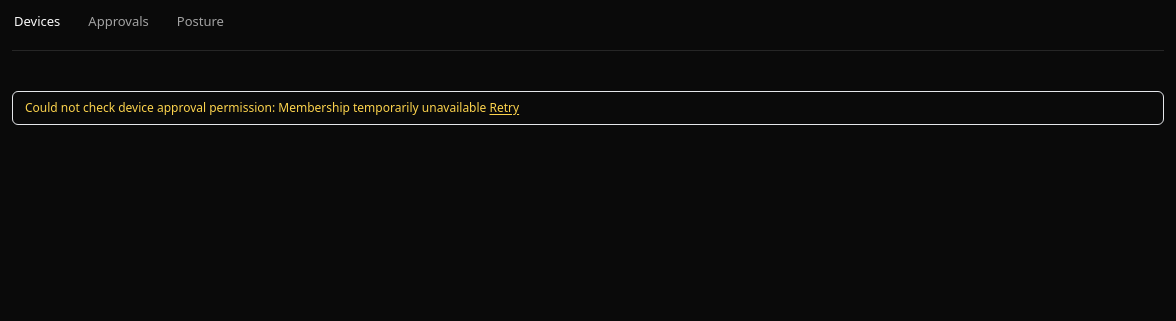
Test: Device approvals permission boundary › makes an unavailable permission read retryable without presenting it as a role denial
Expected: the message is shown, [12,90,1164,124]
Expected: the table "Pending devices" is not shown
Click the button "Retry".
click(504, 108)  # box [490,100,519,116]
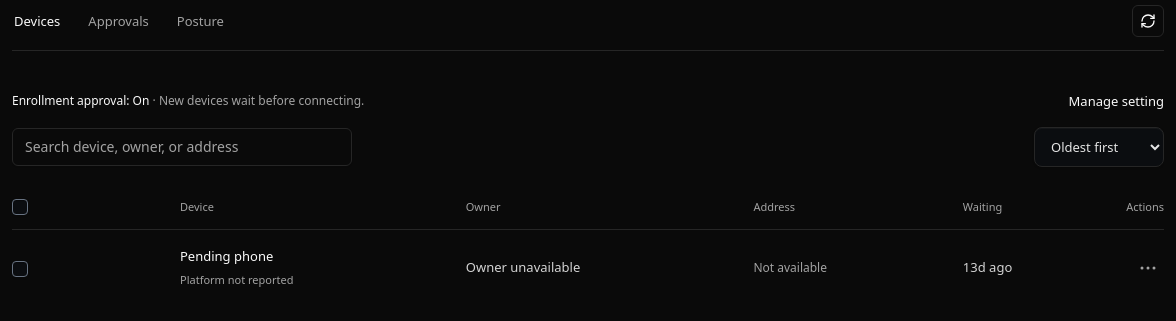
Now the table named "Pending devices" is shown, box [12,183,1164,305]
